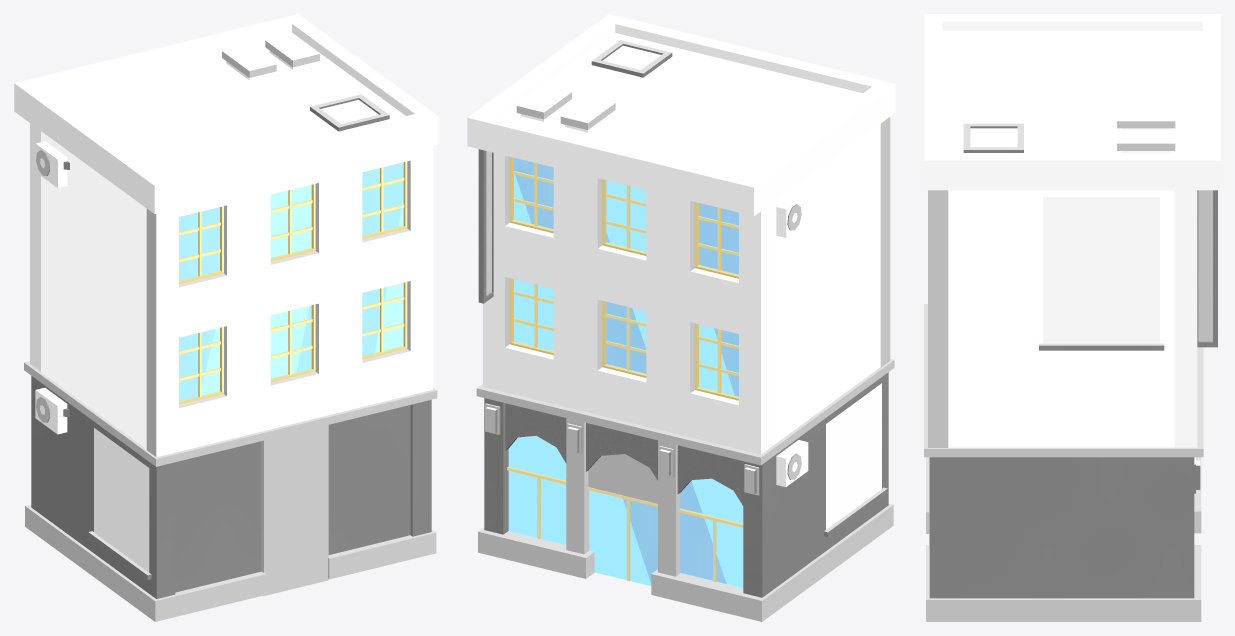
Rendered from hotel.009.glb.
3 renders of one model, left to right at view 1: azimuth 30°, elevation 25°; view 2: azimuth 150°, elevation 25°; view 3: azimuth 270°, elevation 25°, orthographic. The views are drawn at different scales.
Visible parts, largest first — view 1: hotel.009(Clone); view 2: hotel.009(Clone); view 3: hotel.009(Clone).
Boxes of the visible parts, x1=… form: hotel.009(Clone): x1=14, y1=14, x2=438, y2=621; hotel.009(Clone): x1=467, y1=14, x2=895, y2=621; hotel.009(Clone): x1=924, y1=14, x2=1220, y2=621.
Bounding box in the file's own units: 6.1 × 8.87 × 5.11.
1 material, 1 textured.
